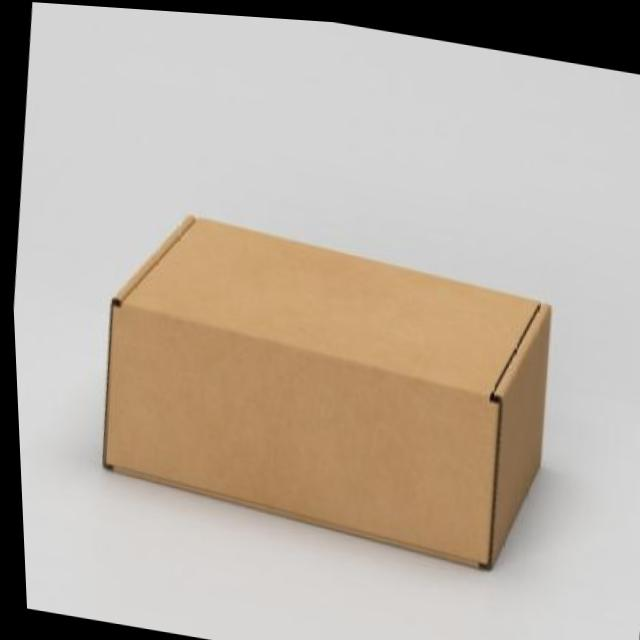box: (66, 176, 579, 583)
